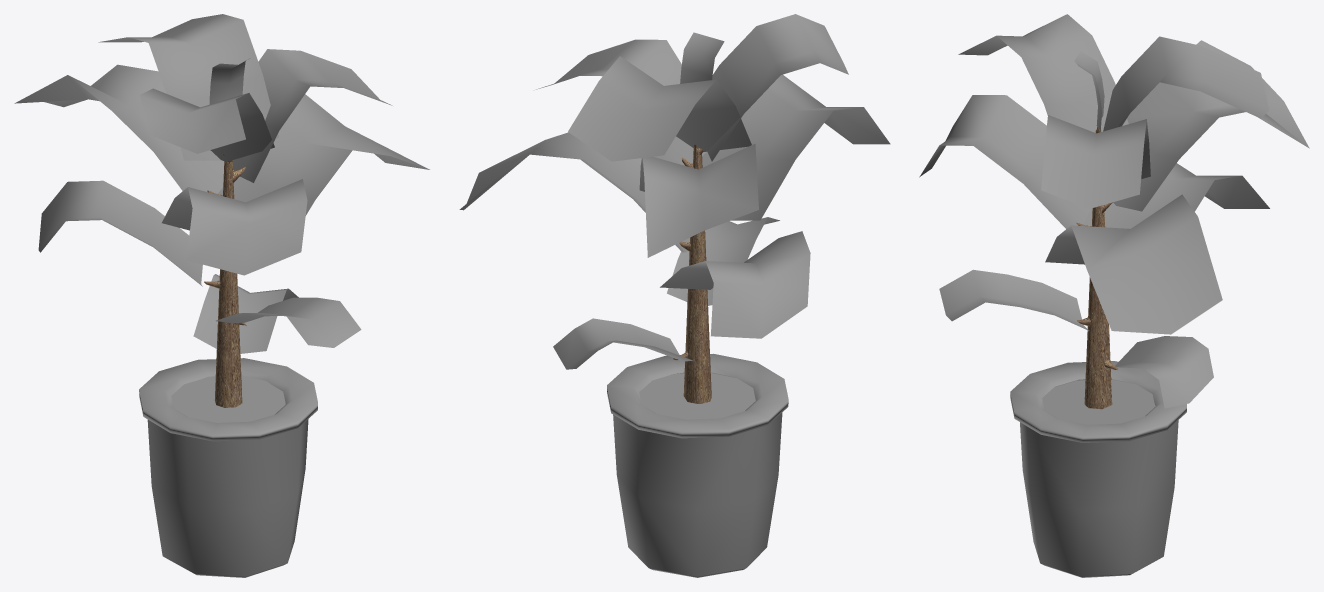
The model's file is Petra_leaf_lod0.fbx.
3 renders of one model, left to right at view 1: azimuth 30°, elevation 25°; view 2: azimuth 150°, elevation 25°; view 3: azimuth 270°, elevation 25°, orthographic. The views are drawn at different scales.
Parts seen in each view (by area): view 1: Petra_leaf_lod0; view 2: Petra_leaf_lod0; view 3: Petra_leaf_lod0.
Boxes of the visible parts, x1,y1,x2,y2 form: Petra_leaf_lod0: [14, 14, 429, 577]; Petra_leaf_lod0: [459, 14, 890, 577]; Petra_leaf_lod0: [919, 14, 1309, 577].
Size of the model in its own units: 43.63 by 59.02 by 41.86.
Materials: 3 (1 with a texture image).
